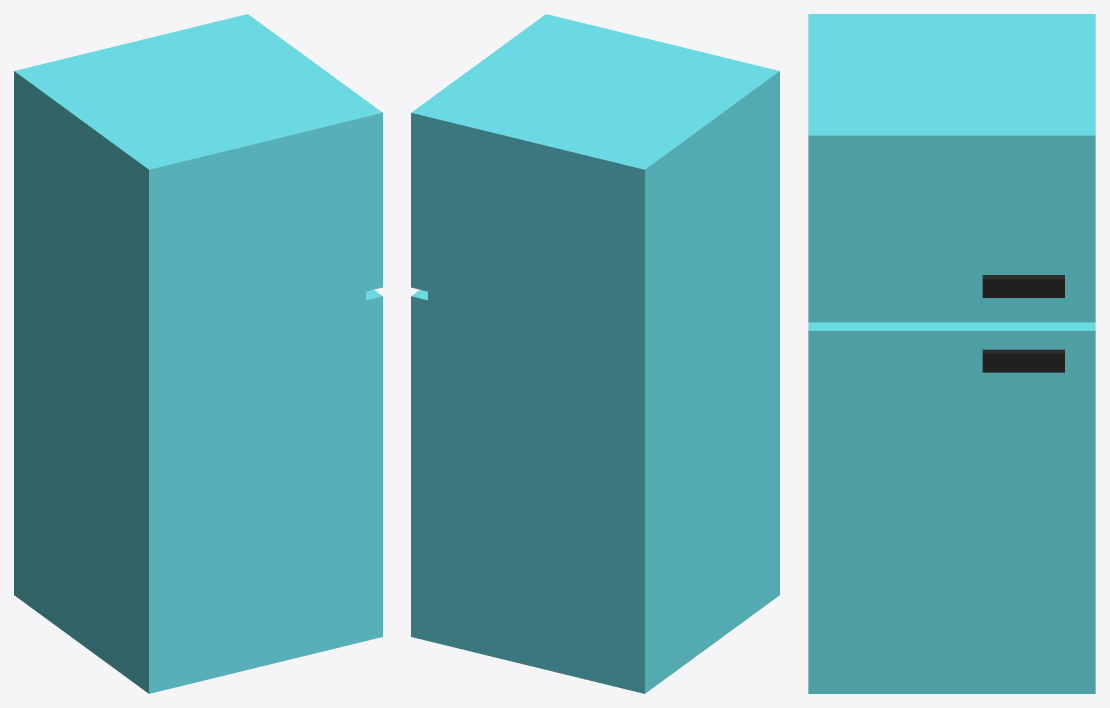
File: fridge.glb
3 views of the same model, side by side, from view 1: azimuth 30°, elevation 25°; view 2: azimuth 150°, elevation 25°; view 3: azimuth 270°, elevation 25° (orthographic). The views are drawn at different scales.
Visible parts, largest first — view 1: actual_stuff, fridge, freezer; view 2: actual_stuff, fridge, freezer; view 3: fridge, freezer, actual_stuff, handle, handle.001.
Part boxes in pixels (x1,y1,x2,y2): actual_stuff: (14, 18, 365, 693); fridge: (366, 289, 382, 640); freezer: (231, 14, 382, 291); actual_stuff: (428, 18, 779, 693); fridge: (411, 289, 427, 640); freezer: (411, 14, 562, 291); fridge: (808, 322, 1095, 693); freezer: (808, 127, 1095, 321); actual_stuff: (808, 14, 1095, 322); handle: (982, 349, 1064, 372); handle.001: (982, 275, 1064, 297).
Size of the model in its own units: 1.45 by 3 by 1.4.
